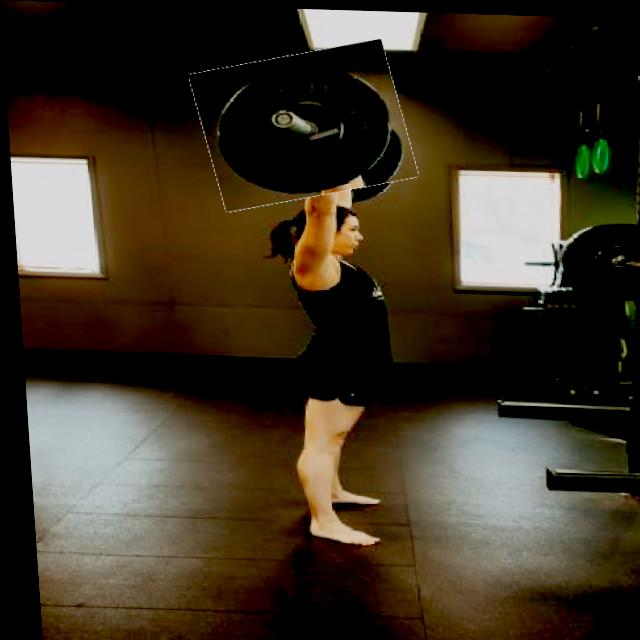barbell: (193, 43, 413, 207)
